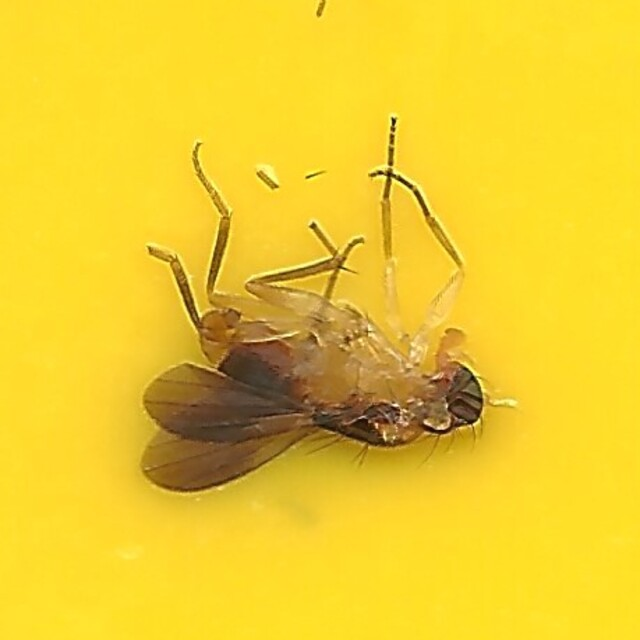Brachycera: (139, 137, 501, 503)
